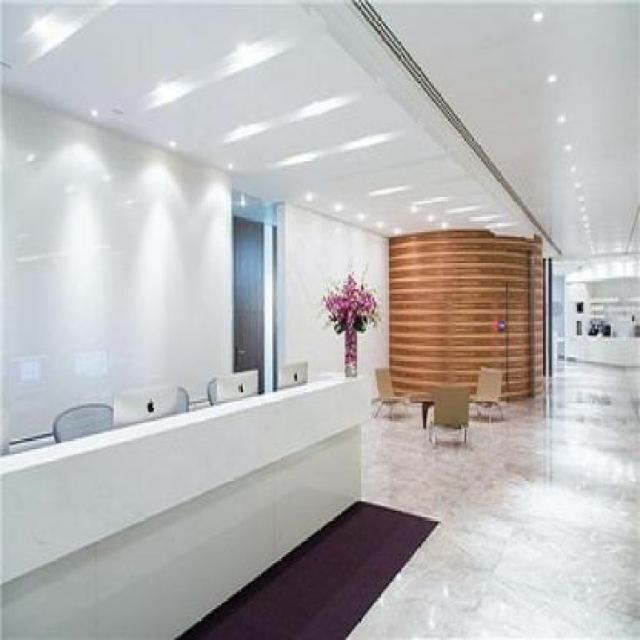frontdesk: (0, 362, 370, 639)
